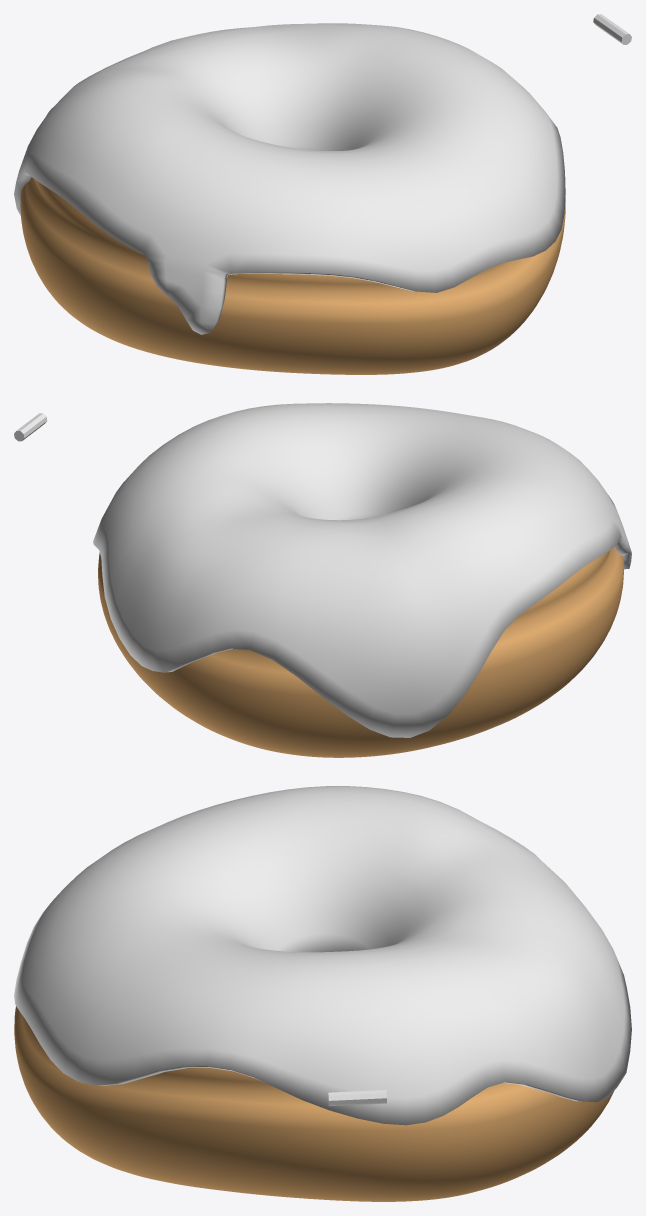
File: Donut_for_jose.dae
The picture shows the model from 3 angles, top to bottom: view 1: azimuth 30°, elevation 25°; view 2: azimuth 150°, elevation 25°; view 3: azimuth 270°, elevation 25°; orthographic projection. The views are drawn at different scales.
Visible parts, largest first — view 1: Icing, Donut, Cylinder; view 2: Icing, Donut; view 3: Icing, Donut, Cylinder.
Part boxes in pixels (x1,y1,x2,y2): Icing: (14, 23, 565, 334); Donut: (20, 177, 565, 374); Cylinder: (593, 14, 631, 44); Icing: (93, 403, 631, 737); Donut: (98, 547, 623, 757); Icing: (14, 786, 631, 1125); Donut: (14, 1006, 613, 1201); Cylinder: (328, 1090, 386, 1106).
Bounding box in the file's own units: 0.117 × 0.0981 × 0.0463.
